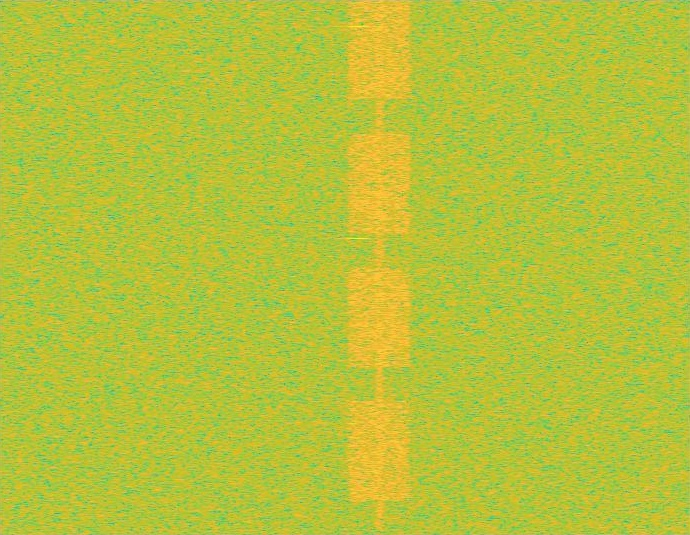5G: (345, 0, 414, 534)
DSSS: (375, 0, 384, 534)
Radar: (351, 0, 365, 534)
